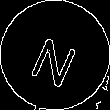N_NE: (26, 24, 84, 86)
